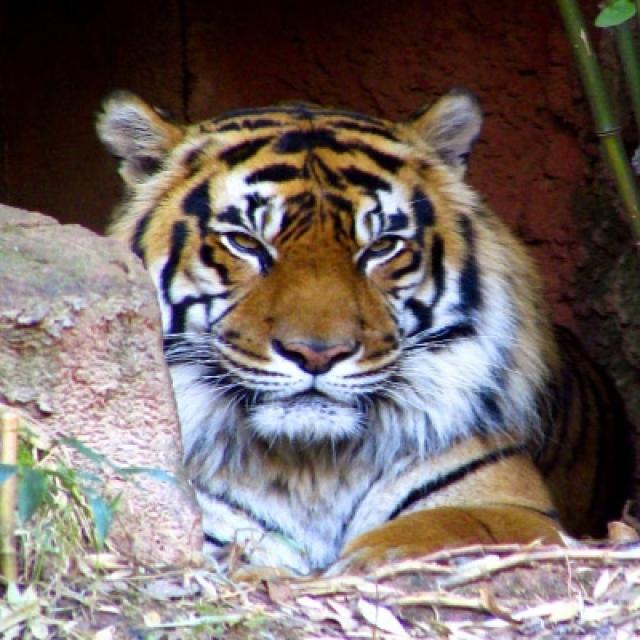Tiger: (94, 85, 571, 568)
